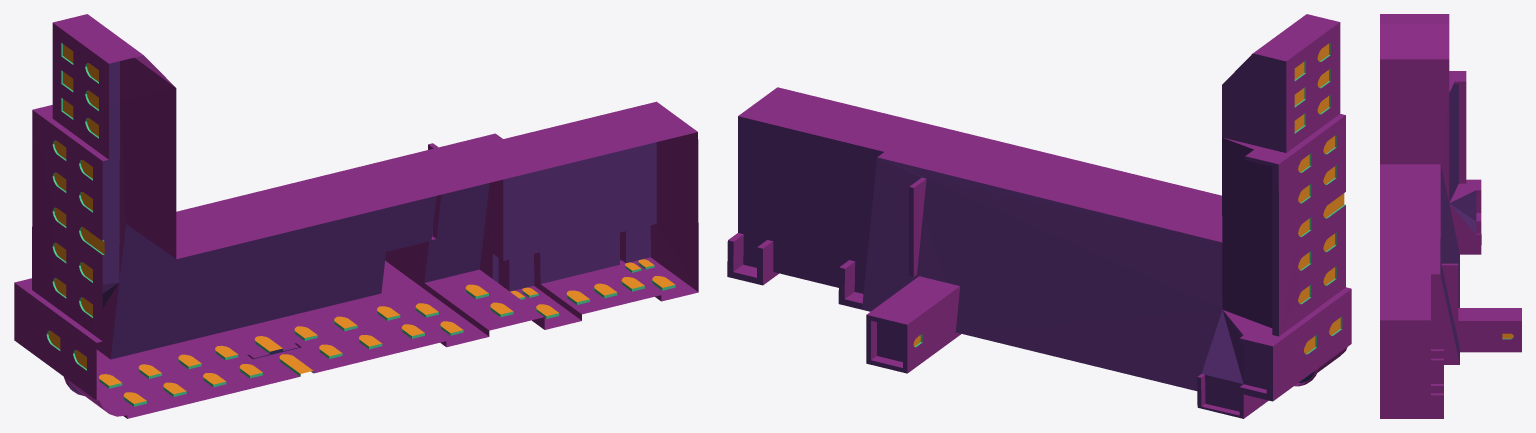
Rendered from Ratusz Tier 3.fbx.
3 renders of one model, left to right at view 1: azimuth 30°, elevation 25°; view 2: azimuth 150°, elevation 25°; view 3: azimuth 270°, elevation 25°, orthographic. The views are drawn at different scales.
Visible parts, largest first — view 1: Ratusz_obj_0; view 2: Ratusz_obj_0; view 3: Ratusz_obj_0.
Boxes of the visible parts, <box> form: Ratusz_obj_0: <box>14,14,698,418</box>; Ratusz_obj_0: <box>727,14,1351,418</box>; Ratusz_obj_0: <box>1380,14,1521,418</box>.
Size of the model in its own units: 4.21 by 2.5 by 1.4.
